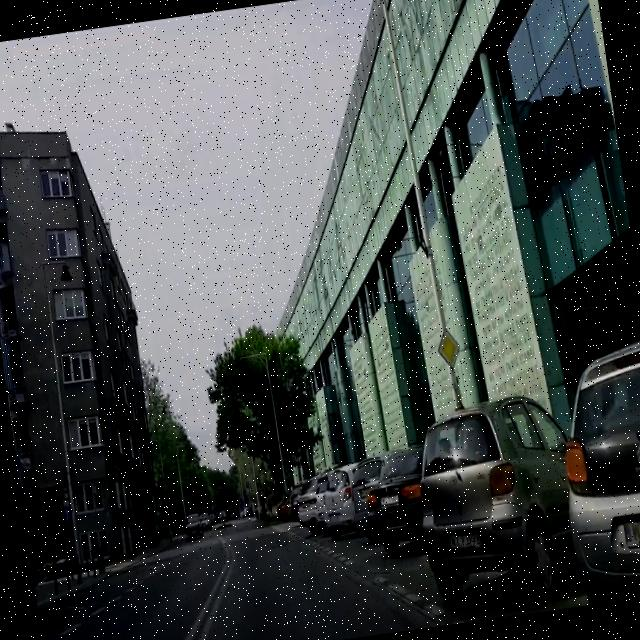Droga z pierwszenstwem: (435, 328, 462, 368)
